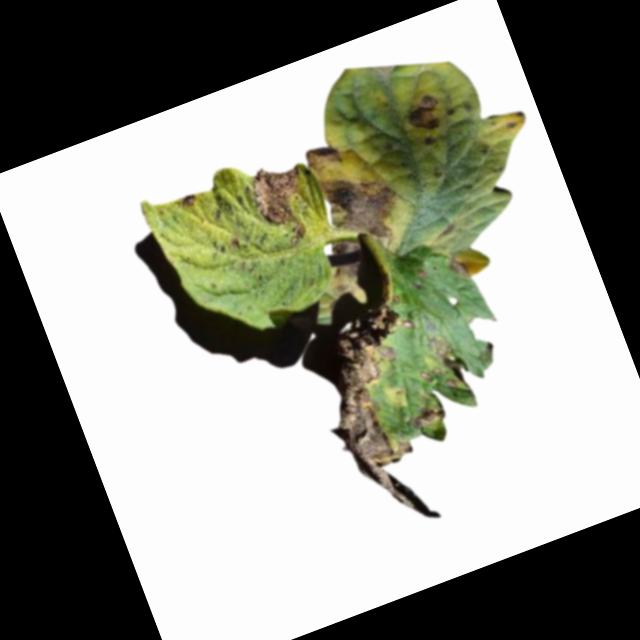Early_blight: (305, 299, 476, 540), (244, 157, 323, 253), (322, 167, 409, 253), (417, 330, 474, 397), (321, 234, 374, 293), (400, 89, 447, 136), (301, 137, 348, 176), (447, 250, 476, 283), (175, 190, 202, 213), (422, 133, 439, 150)
